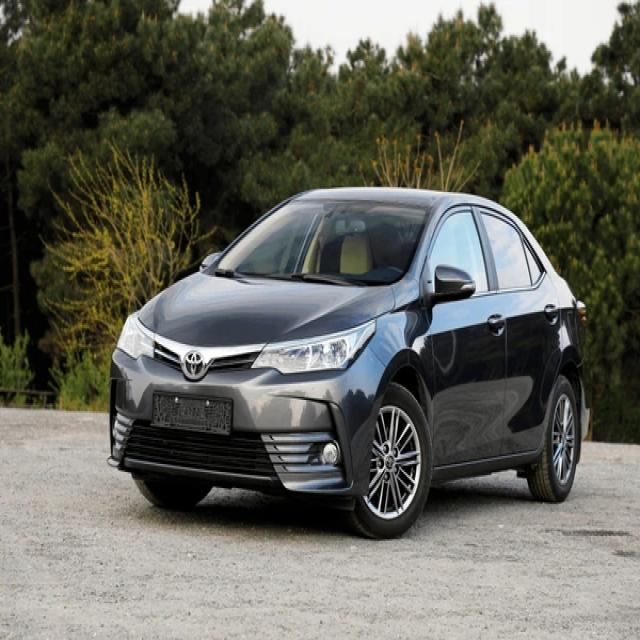toyota: (183, 350, 210, 378)
